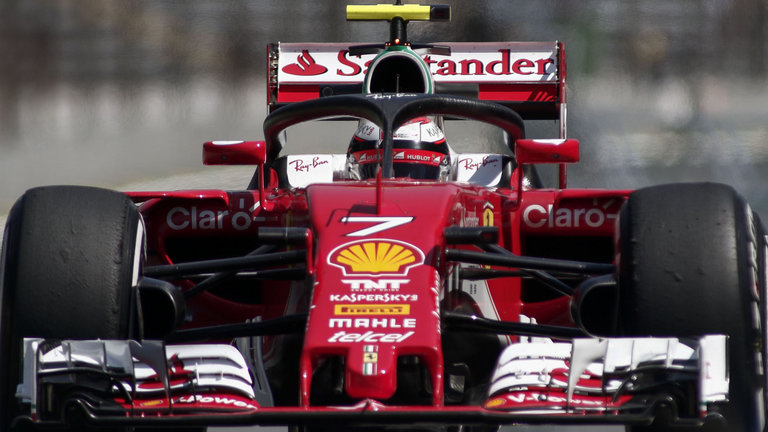f1_car: (1, 2, 768, 430)
